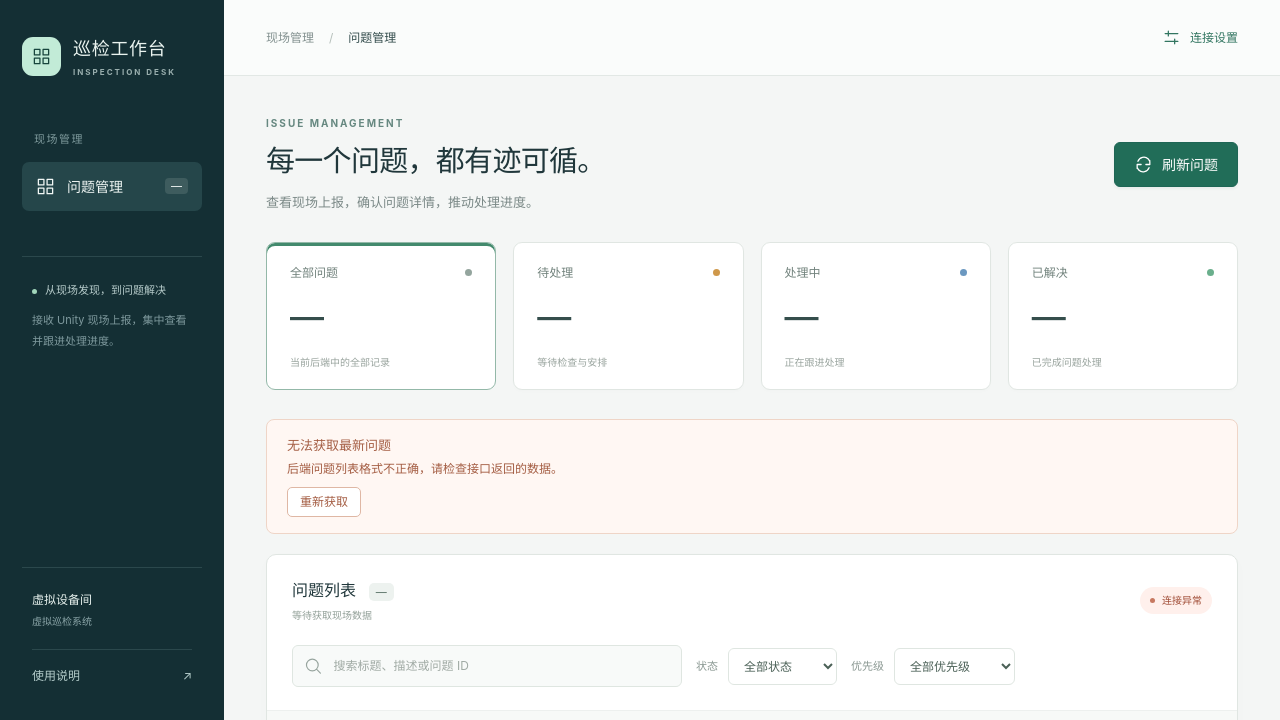
Test: 问题管理交互 › 异常响应不会导致白屏，连接设置拒绝非法地址
Check: the message "无法获取最新问题 后端问题列表格式不正确，请检查接口返回的数据。 重新获取" is shown, box [266,419,1238,534]
Click the button "连接设置" at (1200, 38), box [1162,22,1238,53]
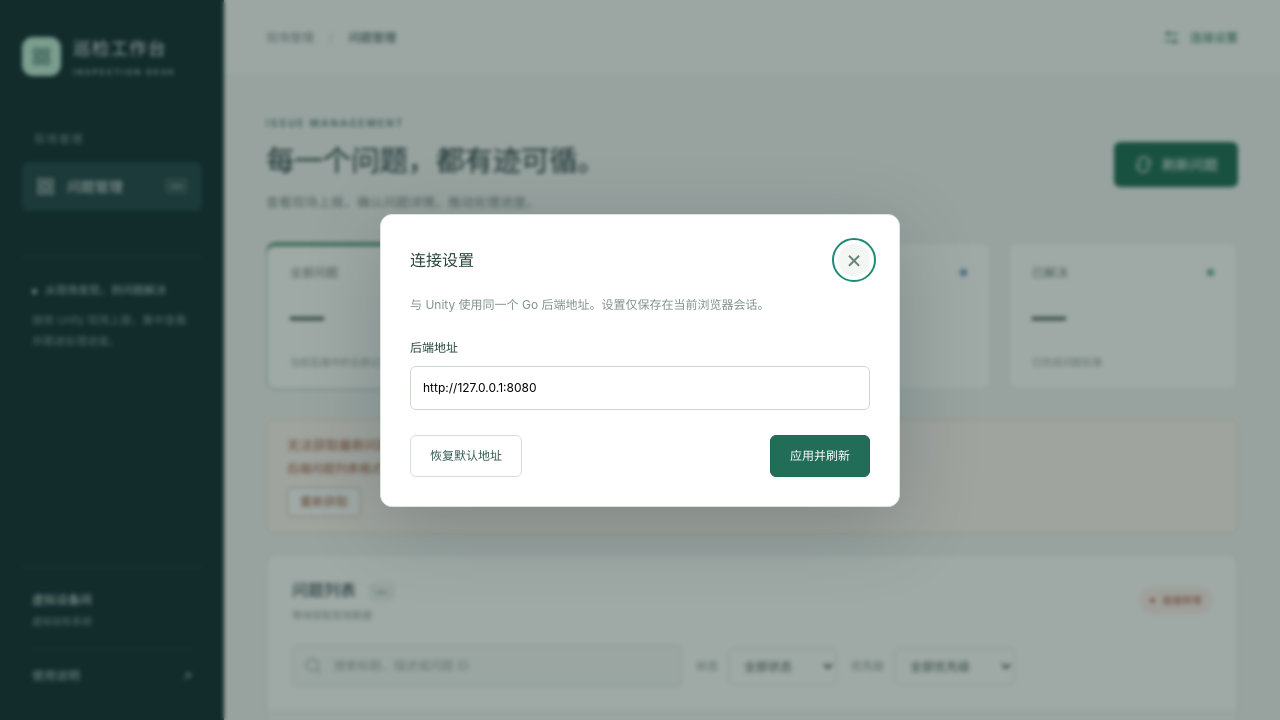
Type "javascript:bad" into the field labelled "后端地址" at (640, 388), box [410,366,870,410]
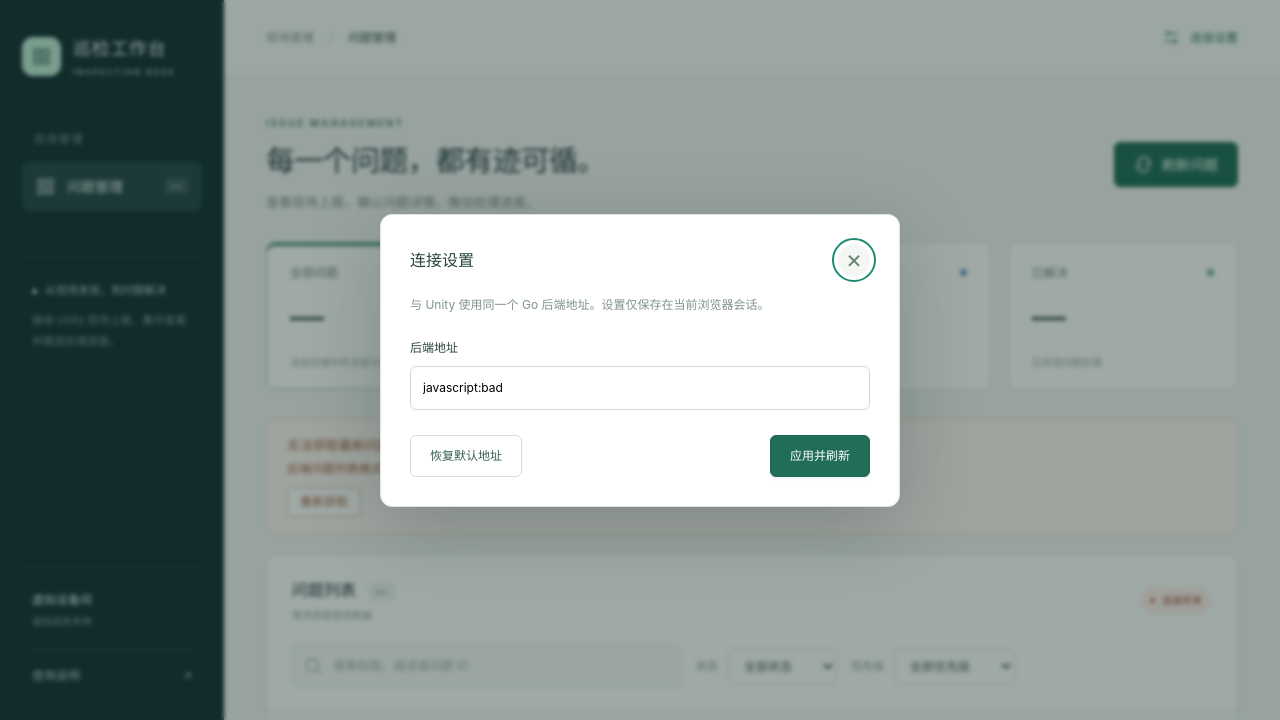
Click the button "应用并刷新" at (820, 456), box [770,434,870,476]
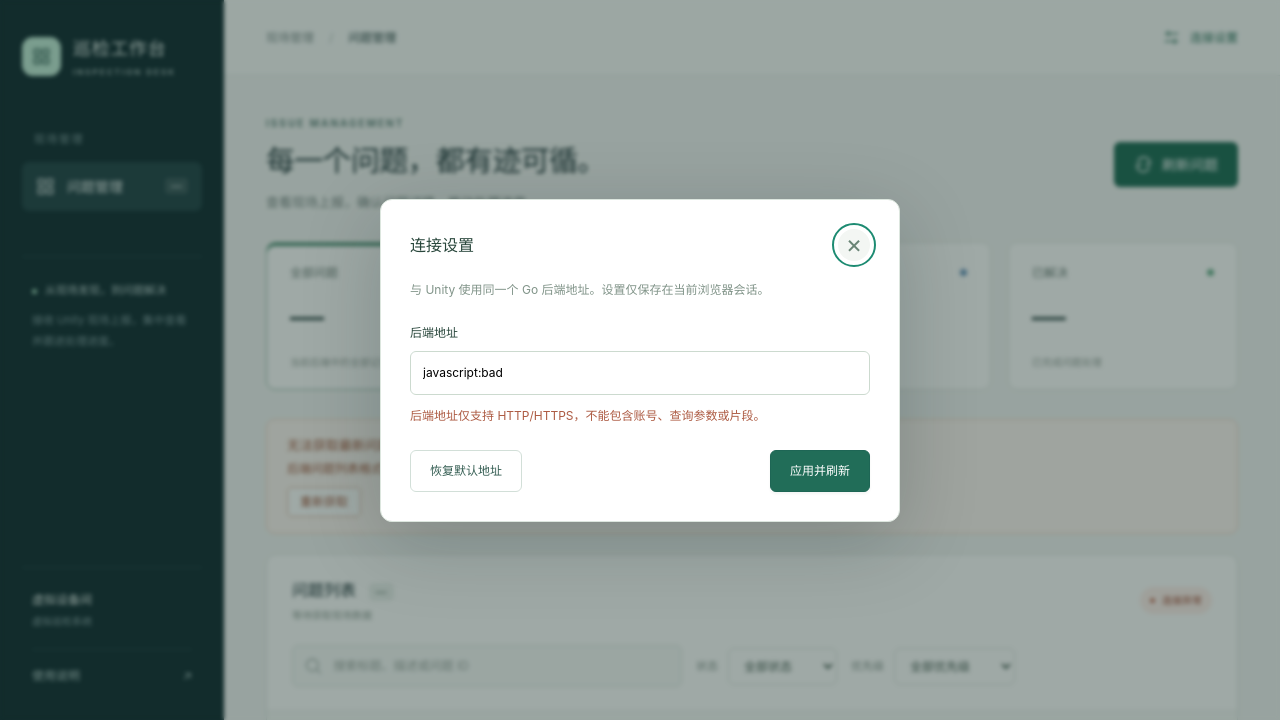
Check: the dialog is shown, box [380,198,900,522]
Check: the text "后端地址仅支持 HTTP/HTTPS，不能包含账号、查询参数或片段。" is shown, box [410,408,766,422]
